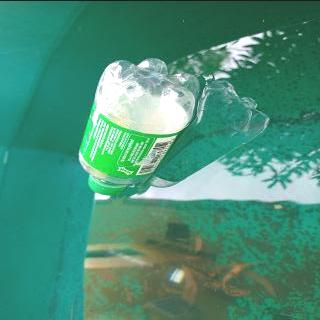bottle: (77, 58, 202, 194)
